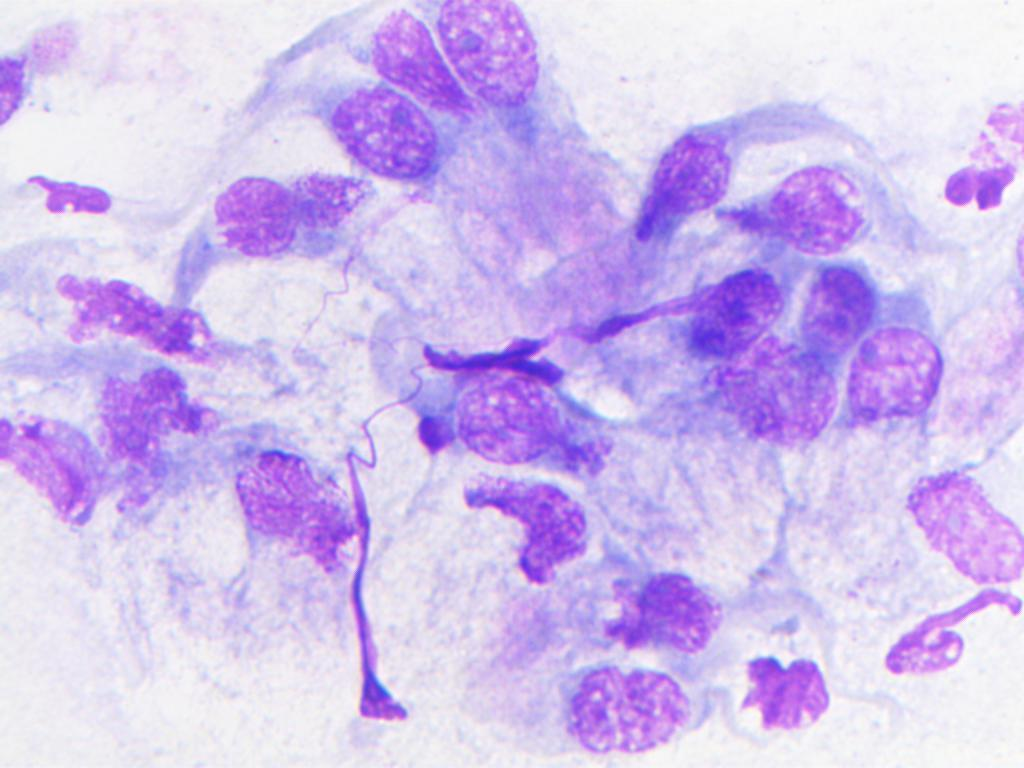artifact: (231, 434, 360, 584), (39, 265, 215, 372), (83, 360, 228, 470), (455, 475, 587, 587), (876, 580, 1021, 677), (0, 402, 108, 529), (736, 638, 844, 745), (942, 76, 1019, 224), (31, 168, 129, 222)
epithelial: (164, 165, 308, 308), (636, 344, 837, 440), (437, 368, 611, 476), (725, 146, 898, 254), (576, 557, 749, 665), (540, 655, 713, 763), (899, 464, 1024, 590), (320, 78, 439, 196), (433, 0, 550, 120), (841, 325, 937, 466), (791, 260, 888, 353), (687, 261, 784, 354)
goblet_cell: (617, 61, 762, 258)
